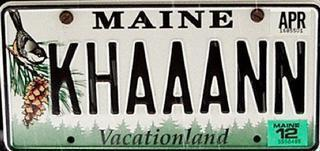placa de veiculo: (3, 5, 313, 147)
